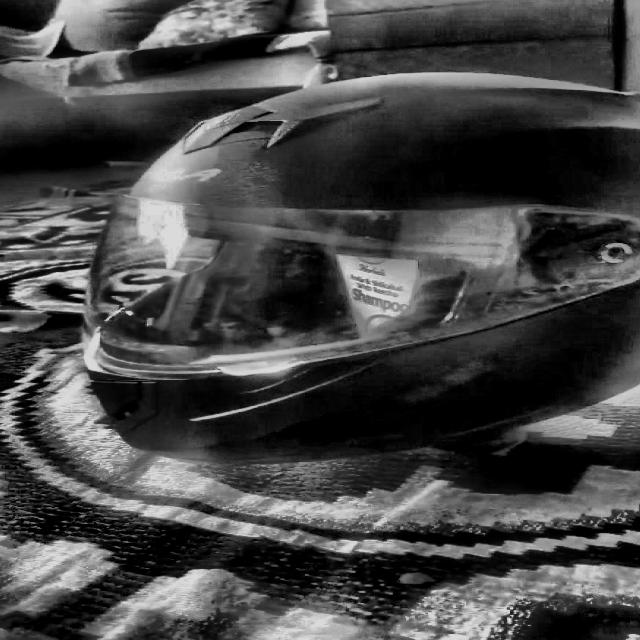Helmet: (82, 71, 640, 491)
